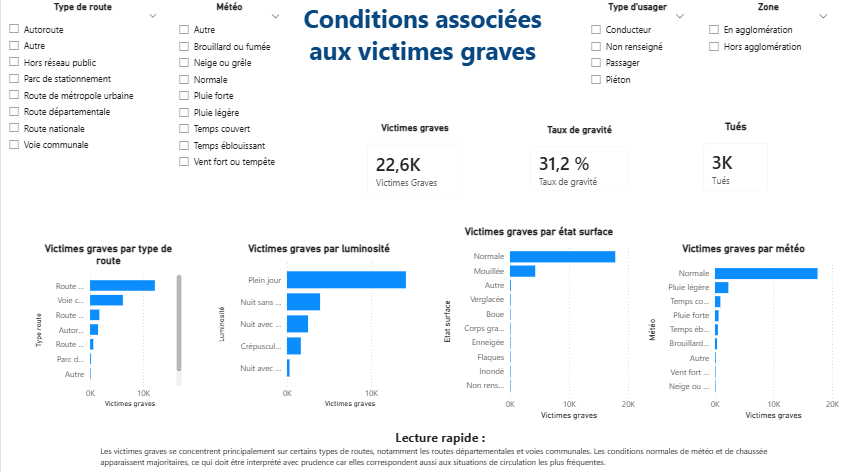

This screenshot's page, from the dashboard's own definition file:
{"tool":"powerbi","page":{"name":"Conditions d'accident","canvas":[1280,720],"ordinal":2},"visuals":[{"type":"textbox","box":[427.1,0,422.9,120],"z":0},{"type":"cardVisual","title":"Victimes graves","fields":{"Data":["tbl_FACT_Usagers_Analyse_2024.Victimes Graves"]},"box":[537.9,187.9,178.8,127.3],"z":1},{"type":"cardVisual","title":"Tués","fields":{"Data":["tbl_FACT_Usagers_Analyse_2024.Tués"]},"box":[1047.1,184.3,132.9,125.7],"z":2},{"type":"cardVisual","title":"Taux de gravité","fields":{"Data":["tbl_FACT_Usagers_Analyse_2024.Taux de gravité"]},"box":[784.3,190.7,183.3,118.2],"z":4},{"type":"slicer","title":"Type d''usager","fields":{"Values":["tbl_FACT_Usagers_Analyse_2024.Type_Usager"]},"box":[881.4,4.3,165.7,150],"z":5},{"type":"slicer","title":"Zone","fields":{"Values":["tbl_FACT_Usagers_Analyse_2024.Zone_Libelle"]},"box":[1060,4.3,204.3,101.4],"z":6},{"type":"slicer","title":"Type de route","fields":{"Values":["tbl_FACT_Usagers_Analyse_2024.Type_Route"]},"box":[0,4.3,248.6,247.1],"z":7},{"type":"slicer","title":"Météo","fields":{"Values":["tbl_FACT_Usagers_Analyse_2024.Météo_Libelle"]},"box":[257.1,4.3,177.1,275.7],"z":8},{"type":"clusteredBarChart","title":"Victimes graves par type de route","fields":{"Category":["tbl_FACT_Usagers_Analyse_2024.Type_Route"],"Y":["tbl_FACT_Usagers_Analyse_2024.Victimes Graves"]},"box":[46.7,369.7,231.8,256.1],"z":9},{"type":"clusteredBarChart","title":"Victimes graves par luminosité","fields":{"Category":["tbl_FACT_Usagers_Analyse_2024.Luminosite_Libelle"],"Y":["tbl_FACT_Usagers_Analyse_2024.Victimes Graves"]},"box":[323.9,369.7,315.2,256.1],"z":10},{"type":"clusteredBarChart","title":"Victimes graves par météo","fields":{"Category":["tbl_FACT_Usagers_Analyse_2024.Météo_Libelle"],"Y":["tbl_FACT_Usagers_Analyse_2024.Victimes Graves"]},"box":[975.7,370,298.6,274.3],"z":11},{"type":"clusteredBarChart","title":"Victimes graves par état surface","fields":{"Category":["tbl_FACT_Usagers_Analyse_2024.Etat_Surface"],"Y":["tbl_FACT_Usagers_Analyse_2024.Victimes Graves"]},"box":[665.2,343.9,300,300],"z":12},{"type":"textbox","box":[145,647.5,1040,68.8],"z":13}]}

Visuals, with their boxes in screenshot pixels (x1, y1, x2, y2), scaled from the page's 1280x720 canvas onto the 846x472 screenshot:
textbox: (x1=282, y1=0, x2=562, y2=79)
"Victimes graves" cardVisual: (x1=356, y1=123, x2=474, y2=207)
"Tués" cardVisual: (x1=692, y1=121, x2=780, y2=203)
"Taux de gravité" cardVisual: (x1=518, y1=125, x2=640, y2=203)
"Type d''usager" slicer: (x1=583, y1=3, x2=692, y2=101)
"Zone" slicer: (x1=701, y1=3, x2=836, y2=69)
"Type de route" slicer: (x1=0, y1=3, x2=164, y2=165)
"Météo" slicer: (x1=170, y1=3, x2=287, y2=184)
"Victimes graves par type de route" clusteredBarChart: (x1=31, y1=242, x2=184, y2=410)
"Victimes graves par luminosité" clusteredBarChart: (x1=214, y1=242, x2=422, y2=410)
"Victimes graves par météo" clusteredBarChart: (x1=645, y1=243, x2=842, y2=422)
"Victimes graves par état surface" clusteredBarChart: (x1=440, y1=225, x2=638, y2=422)
textbox: (x1=96, y1=424, x2=783, y2=470)
